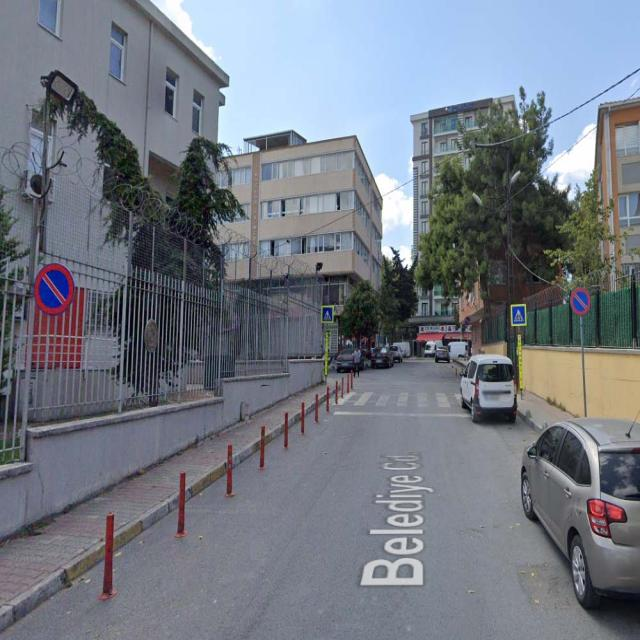parkyasak: (34, 262, 75, 315), (571, 288, 590, 316)
